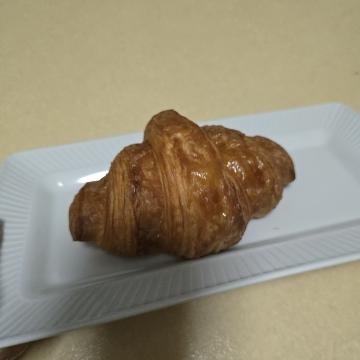croissant: (100, 59, 281, 300)
